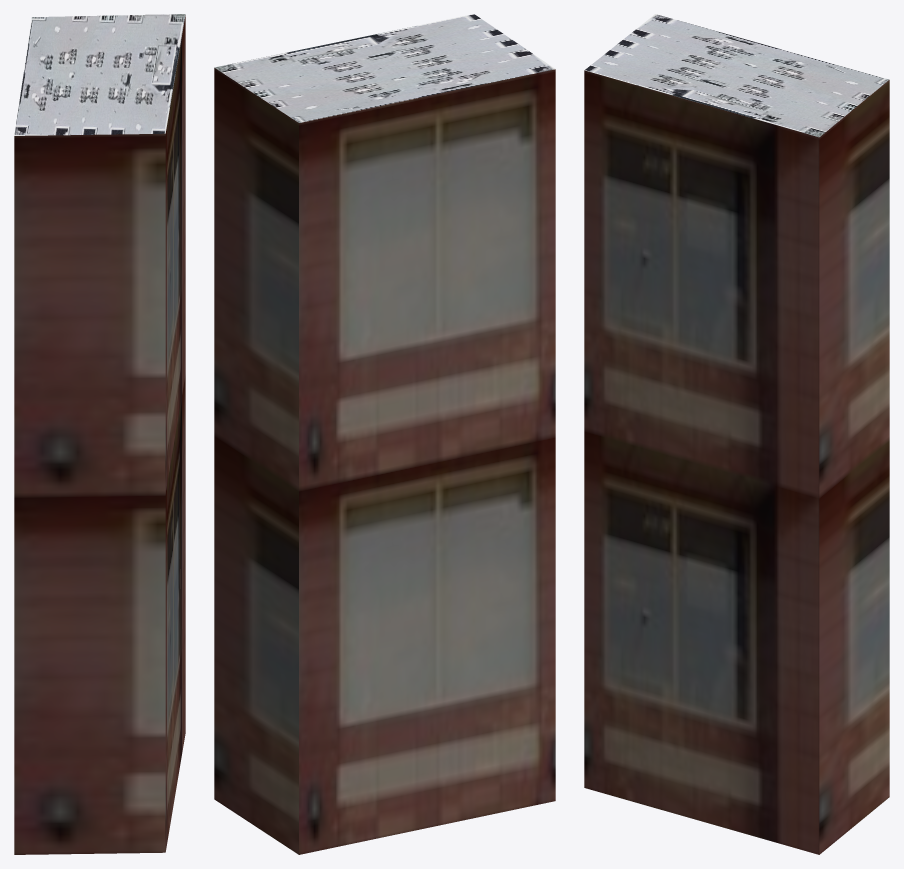
Rendered from ResTex__3649.fbx.
3 views of the same model, side by side, from view 1: azimuth 30°, elevation 25°; view 2: azimuth 150°, elevation 25°; view 3: azimuth 270°, elevation 25° (orthographic).
Visible parts, largest first — view 1: CityEngineMaterial_13_m, CityEngineMaterial_4_m; view 2: CityEngineMaterial_13_m, CityEngineMaterial_4_m; view 3: CityEngineMaterial_13_m, CityEngineMaterial_4_m.
Part boxes in pixels (x1,y1,x2,y2): CityEngineMaterial_13_m: (14,15,185,854); CityEngineMaterial_4_m: (14,14,185,135); CityEngineMaterial_13_m: (214,68,555,854); CityEngineMaterial_4_m: (214,14,555,122); CityEngineMaterial_13_m: (584,70,889,854); CityEngineMaterial_4_m: (585,14,888,137).
Bounding box in the file's own units: 2.21 × 6 × 2.31.
2 materials, 2 textured.
